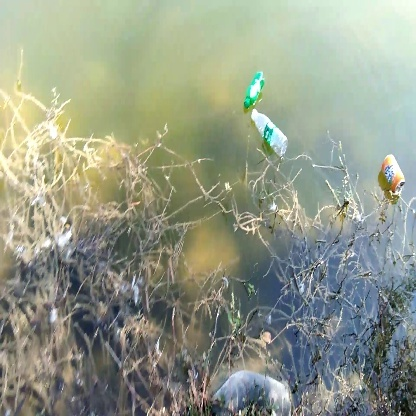bottle: (253, 111, 292, 156), (375, 152, 409, 198), (240, 70, 268, 109)
